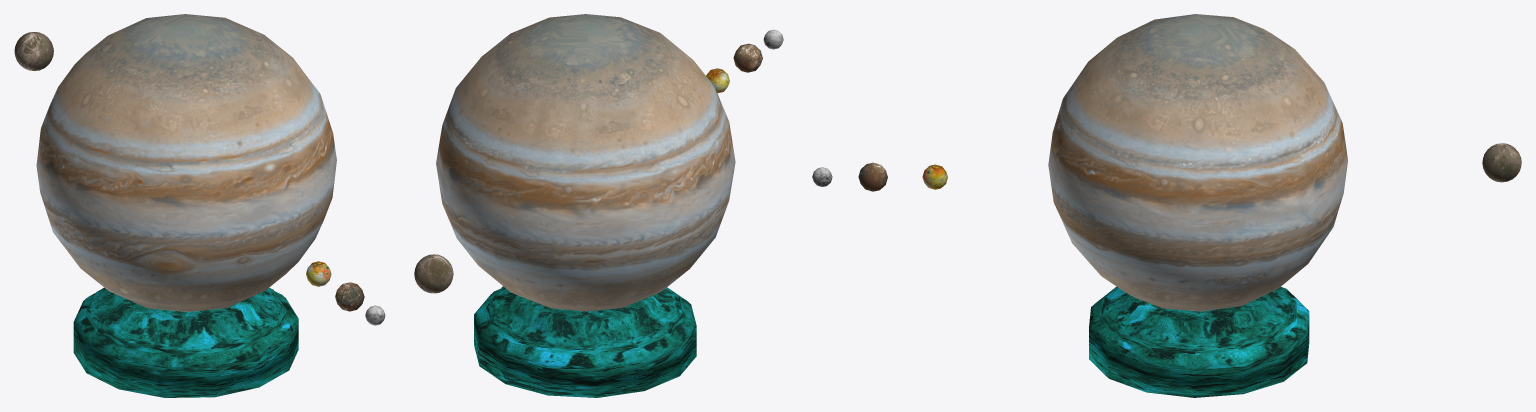
File: jupiter.glb
3 views of the same model, side by side, from view 1: azimuth 30°, elevation 25°; view 2: azimuth 150°, elevation 25°; view 3: azimuth 270°, elevation 25° (orthographic).
Visible parts, largest first — view 1: Icosphere.002, Cylinder.010, Icosphere.003, Icosphere.004, Icosphere.005, Icosphere.006; view 2: Icosphere.002, Cylinder.010, Icosphere.003, Icosphere.004, Icosphere.005; view 3: Icosphere.002, Cylinder.010, Icosphere.003, Icosphere.004.
Boxes of the visible parts, x1,y1,x2,y2 form: Icosphere.002: (36,14,336,311); Cylinder.010: (73,287,298,397); Icosphere.003: (14,32,53,70); Icosphere.004: (335,282,364,311); Icosphere.005: (306,261,331,286); Icosphere.006: (365,305,385,325); Icosphere.002: (436,14,735,311); Cylinder.010: (474,286,696,397); Icosphere.003: (414,254,453,293); Icosphere.004: (733,43,762,72); Icosphere.005: (706,68,729,93); Icosphere.002: (1048,14,1347,311); Cylinder.010: (1089,286,1309,397); Icosphere.003: (1482,143,1521,182); Icosphere.004: (858,162,887,191).
Size of the model in its own units: 2.68 by 3.19 by 6.33.
Materials: 6 (6 with a texture image).
